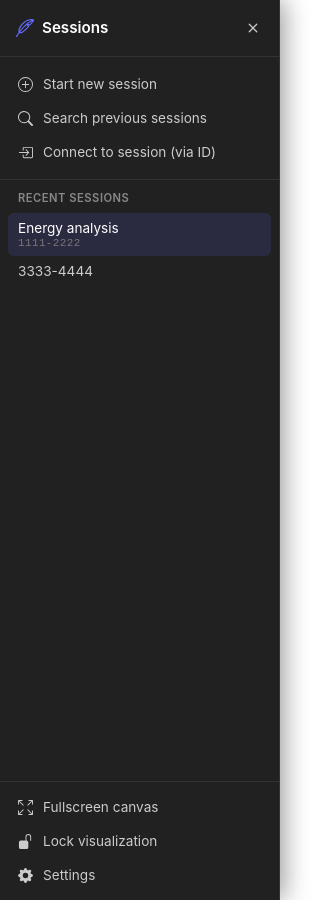
Test: SessionDrawer › filters sessions from the search field
The width and height of the screenshot is (320, 900).
Click the button "Search previous sessions": click(140, 118) 8,101 -> 271,135
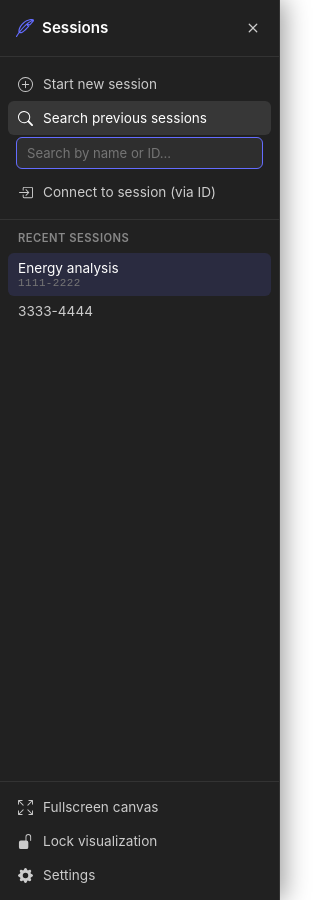
In the field with placeholder "Search by name or ID...": (140, 153) 16,137 -> 263,169, type "energy"
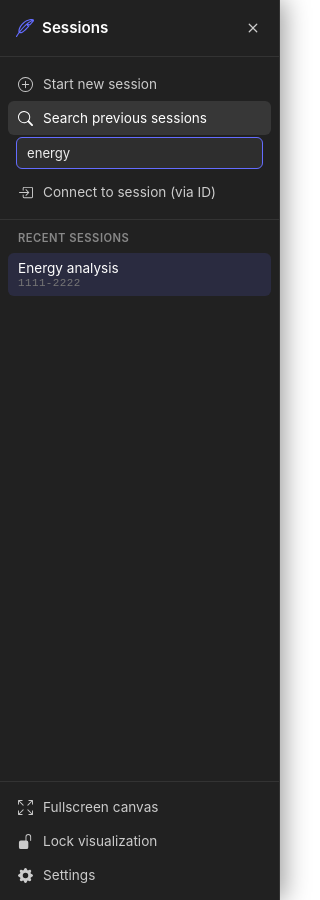
Expected: the text "Energy analysis" is shown, 18,260 -> 119,276
Expected: the button "3333-4444" is gone
